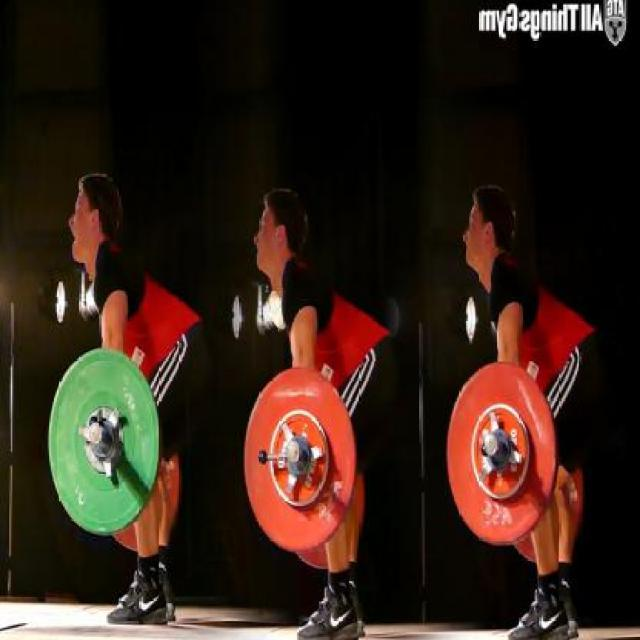Barbell: (479, 428, 501, 462), (85, 414, 106, 449), (286, 436, 302, 469)
